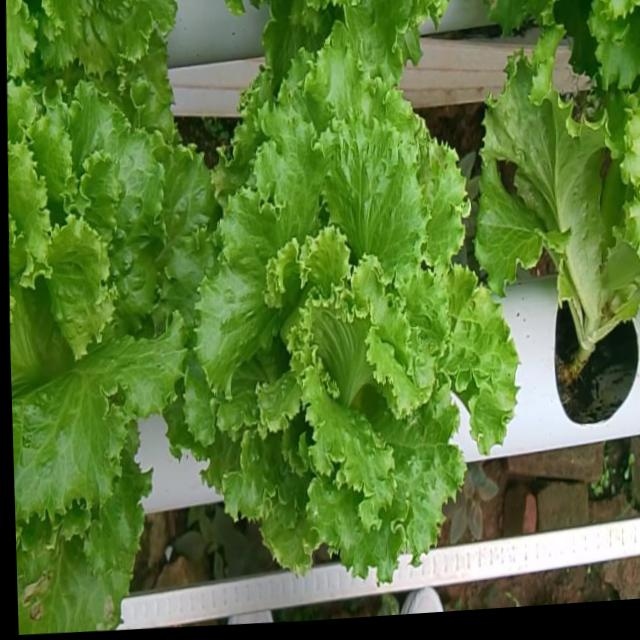Mature: (176, 59, 511, 597), (8, 91, 208, 538)
